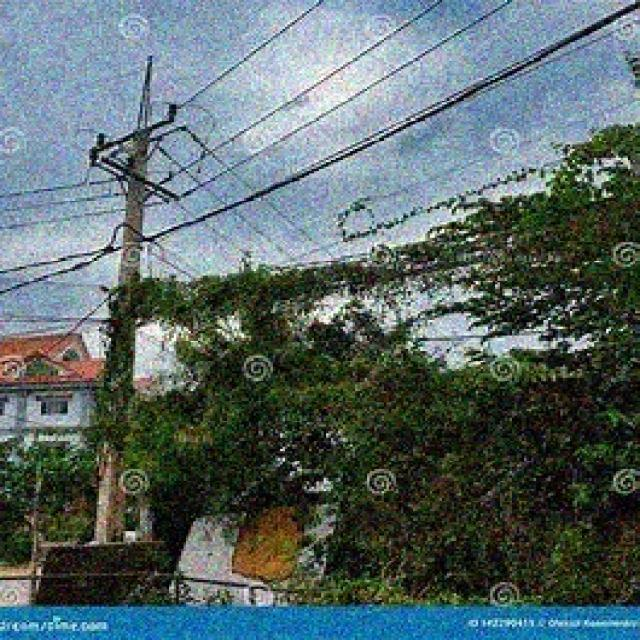critical vegetation: (124, 234, 634, 391)
